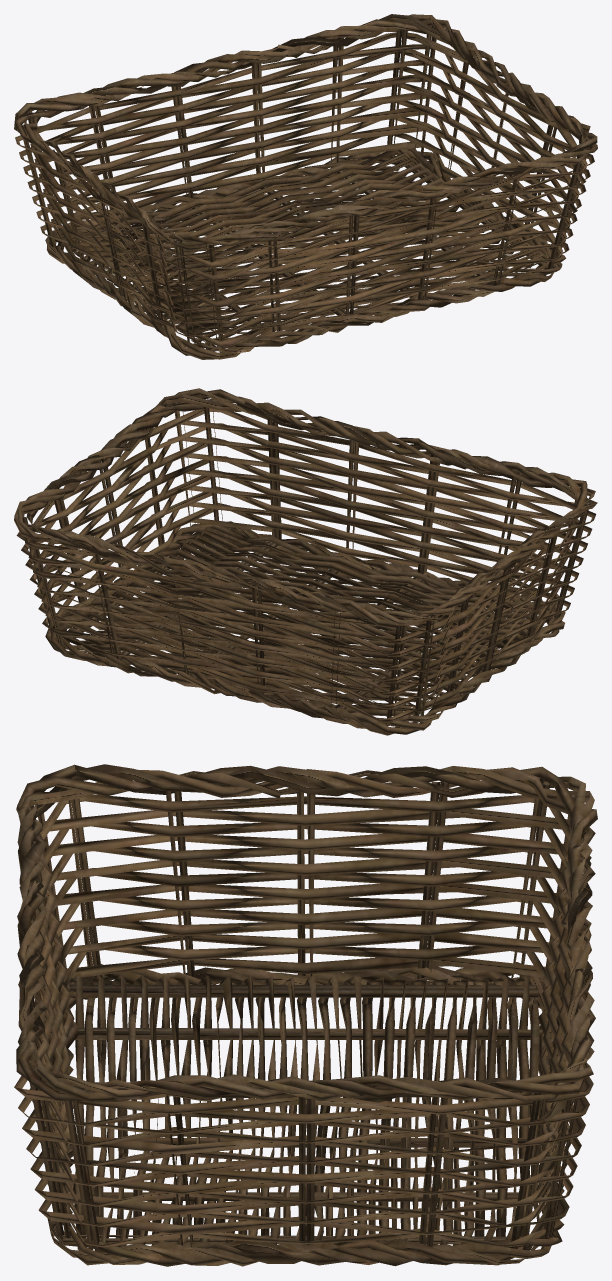
The model's file is basket-0-near.glb.
The picture shows the model from 3 angles, top to bottom: view 1: azimuth 30°, elevation 25°; view 2: azimuth 150°, elevation 25°; view 3: azimuth 270°, elevation 25°; orthographic projection. The views are drawn at different scales.
Visible parts, largest first — view 1: wicker_basket_01; view 2: wicker_basket_01; view 3: wicker_basket_01.
Boxes of the visible parts, x1,y1,x2,y2 form: wicker_basket_01: (14, 14, 597, 359); wicker_basket_01: (14, 388, 597, 735); wicker_basket_01: (14, 764, 597, 1266).
Bounding box in the file's own units: 0.383 × 0.1174 × 0.2939.
1 material, 1 textured.
